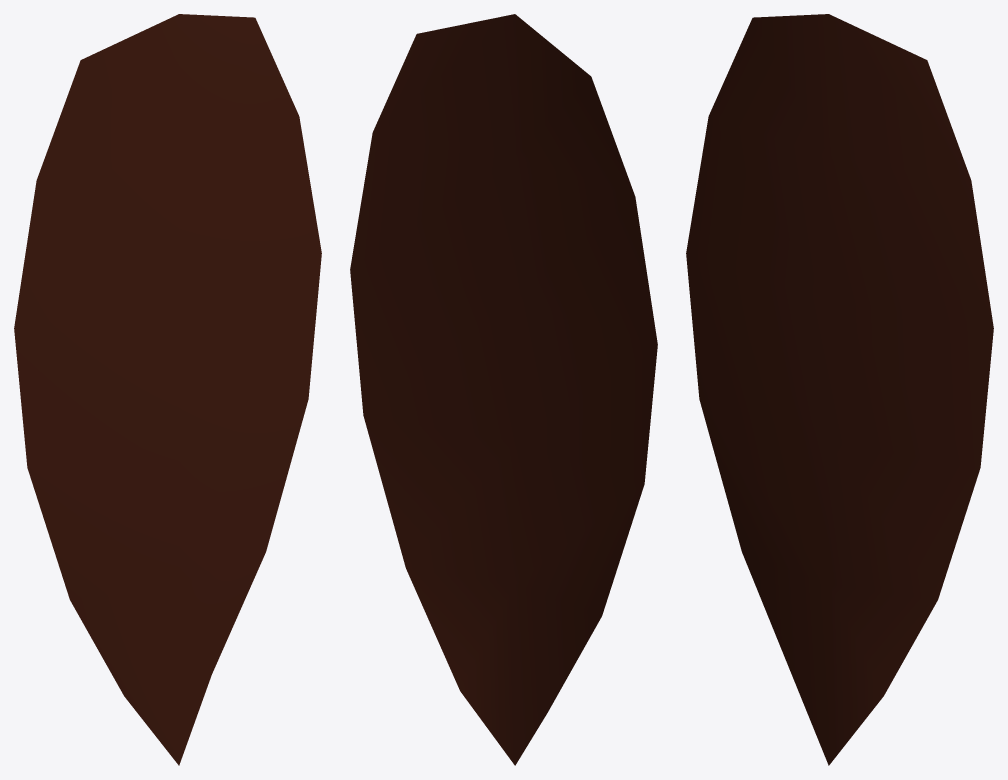
File: hen_feather_flight_tertiary_002.obj
3 views of the same model, side by side, from view 1: azimuth 30°, elevation 25°; view 2: azimuth 150°, elevation 25°; view 3: azimuth 330°, elevation 25° (orthographic).
Visible parts, largest first — view 1: feather_flight_tertiary_002; view 2: feather_flight_tertiary_002; view 3: feather_flight_tertiary_002.
Part boxes in pixels (x1=…): feather_flight_tertiary_002: x1=14, y1=14, x2=321, y2=765; feather_flight_tertiary_002: x1=350, y1=14, x2=657, y2=765; feather_flight_tertiary_002: x1=686, y1=14, x2=993, y2=765.
Size of the model in its own units: 0.00836 by 0.0195 by 0.000525.
